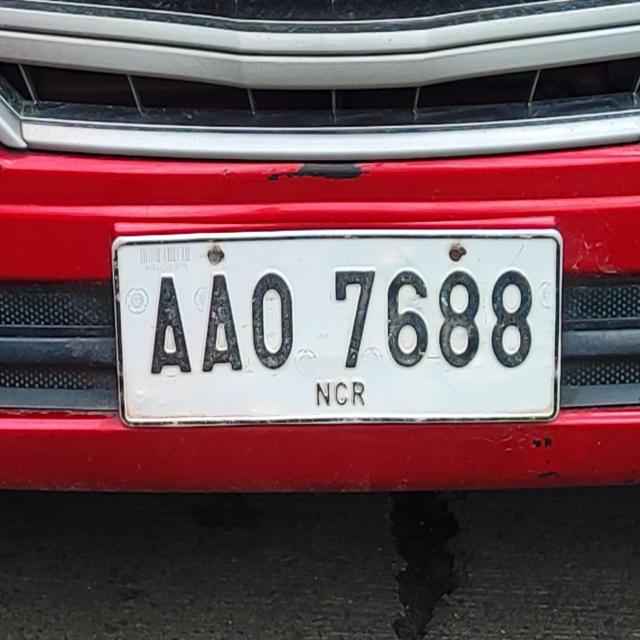plate: (109, 224, 566, 431)
